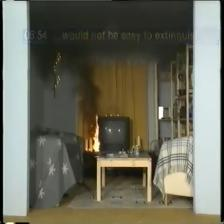Fire: (91, 117, 101, 151)
